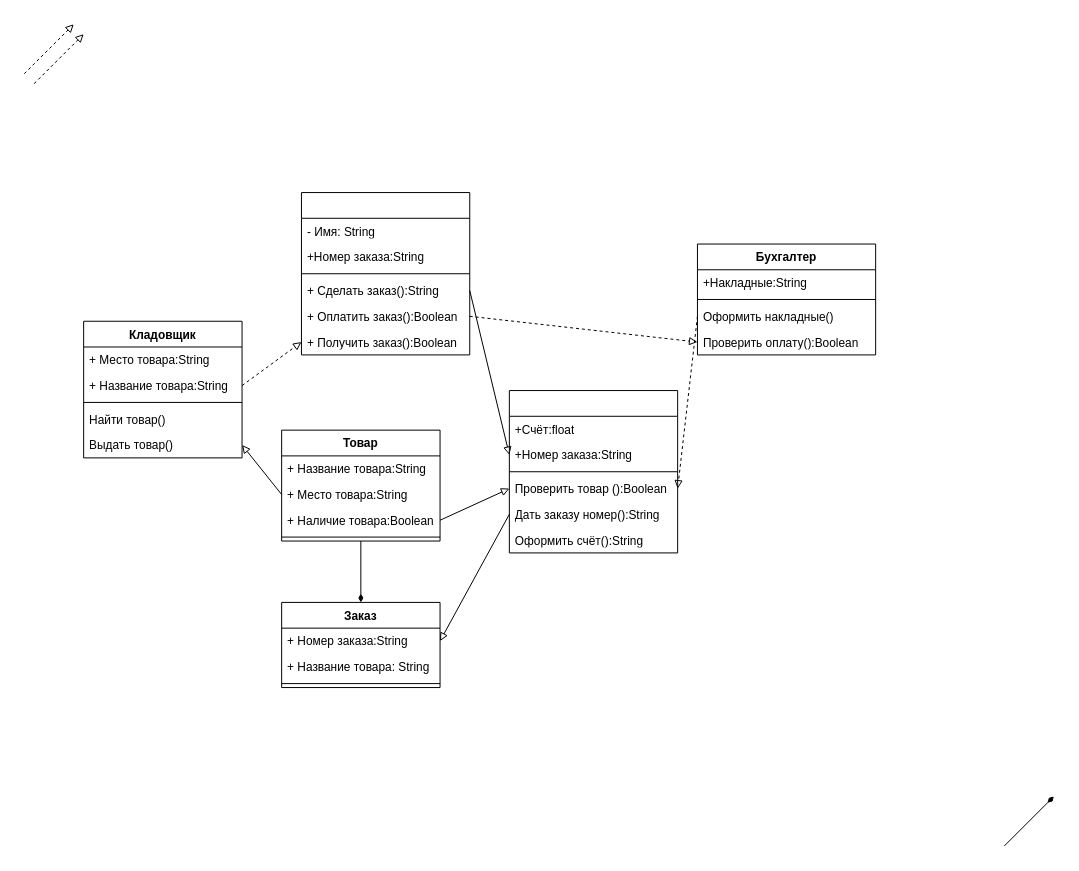
Image size: 1079x871. Some labels were removed from this diagram. The box of each missing label's shape, as (x1, y1, x2, y2) in pixels:
Клиент: (300, 192, 470, 355)
Менеджер: (508, 390, 678, 553)
